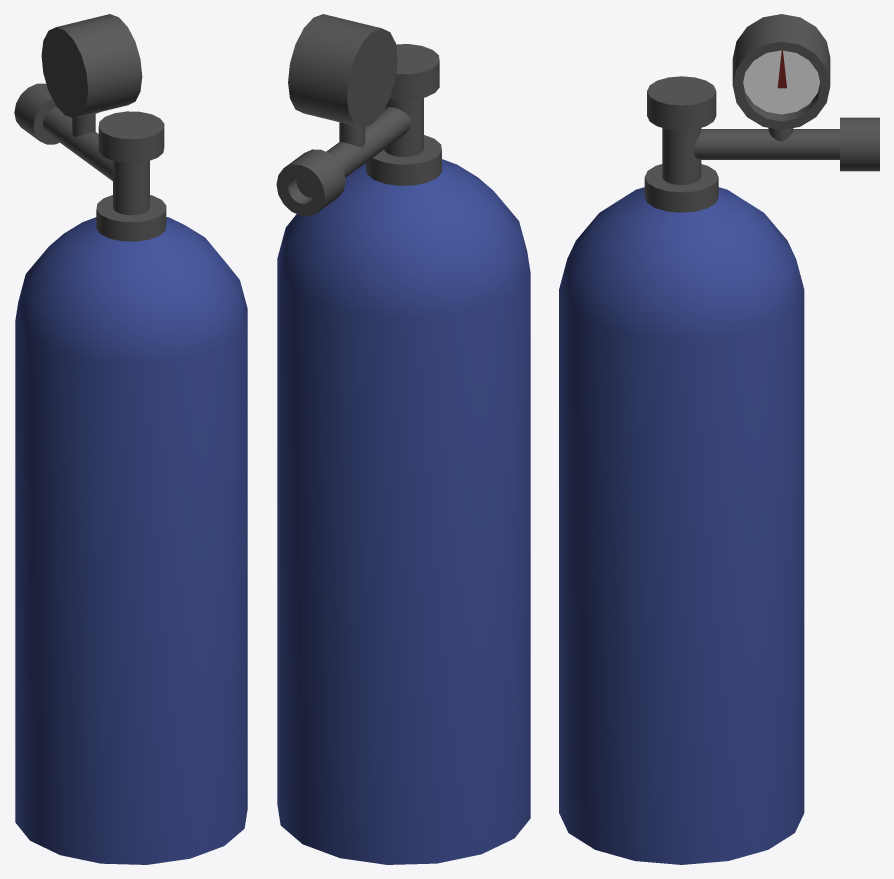
File: svarshik_scene_model_2.gltf
3 views of the same model, side by side, from view 1: azimuth 30°, elevation 25°; view 2: azimuth 150°, elevation 25°; view 3: azimuth 270°, elevation 25° (orthographic). The views are drawn at different scales.
Parts seen in each view (by area): view 1: Цилиндр, Цилиндр.003, Цилиндр.001, Цилиндр.002; view 2: Цилиндр, Цилиндр.003, Цилиндр.001, Цилиндр.002; view 3: Цилиндр, Цилиндр.003, Цилиндр.001.
Boxes of the visible parts, x1,y1,x2,y2 form: Цилиндр: [15, 111, 247, 864]; Цилиндр.003: [41, 14, 142, 118]; Цилиндр.001: [14, 83, 112, 180]; Цилиндр.002: [72, 112, 99, 136]; Цилиндр: [277, 44, 530, 864]; Цилиндр.003: [288, 14, 397, 127]; Цилиндр.001: [276, 107, 411, 216]; Цилиндр.002: [339, 122, 365, 147]; Цилиндр: [559, 76, 804, 864]; Цилиндр.003: [732, 14, 830, 129]; Цилиндр.001: [693, 117, 879, 171].
Bounding box in the file's own units: 2.97 × 10.55 × 3.88.
